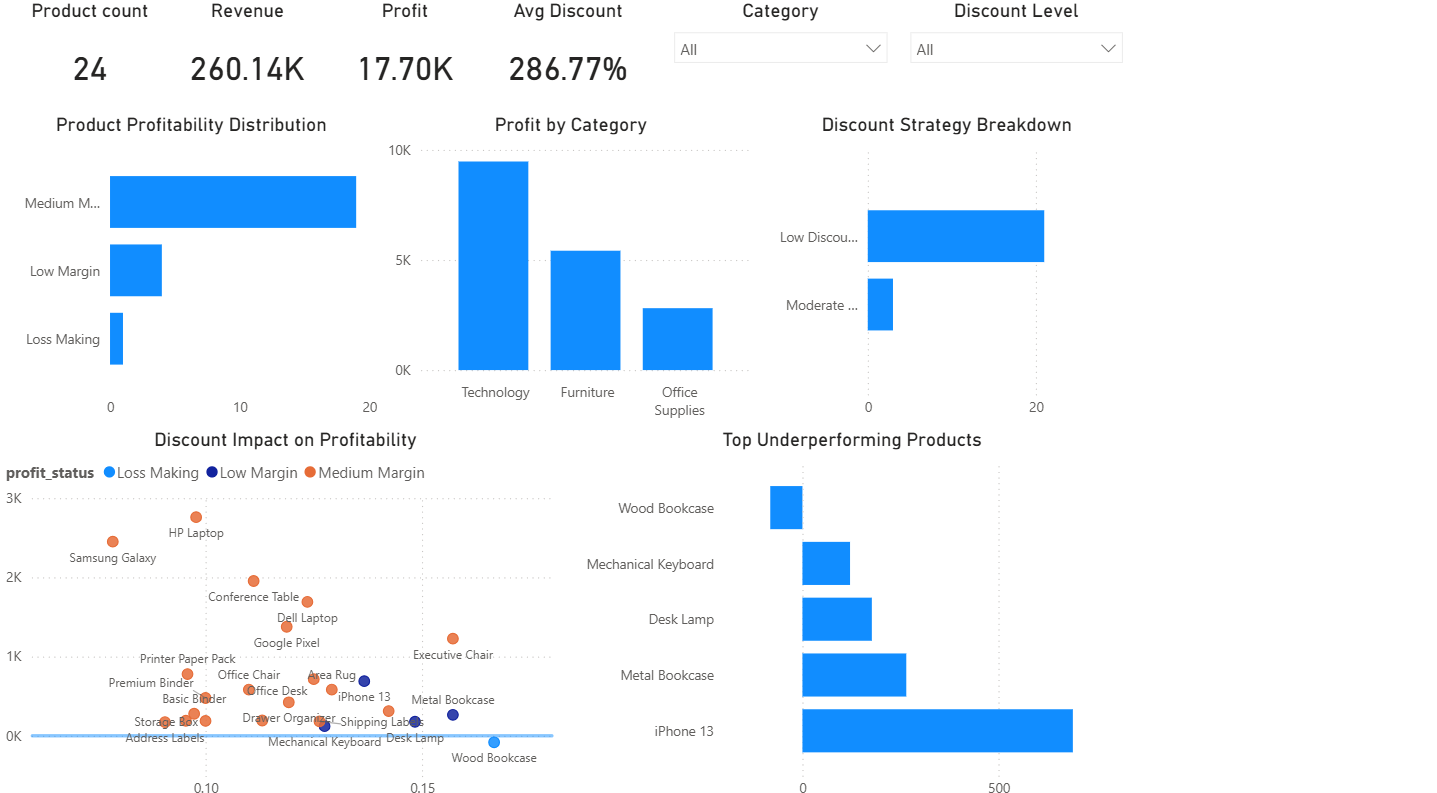

What the dashboard file says about the page in this screenshot:
{"tool":"powerbi","page":{"name":"Page 1","canvas":[1280,720],"ordinal":0},"visuals":[{"type":"card","title":"Product count","fields":{"Values":["CountNonNull(public profit_analysis.product_name)"]},"box":[9.6,0,140,101.5],"z":0},{"type":"card","title":"Revenue","fields":{"Values":["Sum(public profit_analysis.total_sales)"]},"box":[149.6,0,140,101.5],"z":1000},{"type":"card","title":"Profit","fields":{"Values":["Sum(public profit_analysis.total_profit)"]},"box":[289.5,0,140,101.5],"z":2000},{"type":"barChart","title":"Product Profitability Distribution","fields":{"Category":["public profit_analysis.profit_status"],"Y":["CountNonNull(public profit_analysis.product_name)"]},"box":[0,101.5,340.3,279.9],"z":3000},{"type":"columnChart","title":"Profit by Category","fields":{"Category":["public profit_analysis.category"],"Y":["Sum(public profit_analysis.total_profit)"]},"box":[340.3,101.5,334.8,279.9],"z":4000},{"type":"barChart","title":"Discount Strategy Breakdown","fields":{"Category":["public profit_analysis.discount_level"],"Y":["CountNonNull(public profit_analysis.product_name)"]},"box":[675.1,101.5,332.1,279.9],"z":5000},{"type":"scatterChart","title":"Discount Impact on Profitability","fields":{"X":["Sum(public profit_analysis.avg_discount)"],"Y":["Sum(public profit_analysis.total_profit)"],"Category":["public profit_analysis.product_name"],"Series":["public profit_analysis.profit_status"]},"box":[0,381.5,507.7,338.9],"z":6000},{"type":"barChart","title":"Top Underperforming Products","fields":{"Category":["public profit_analysis.product_name"],"Y":["Sum(public profit_analysis.total_profit)"]},"box":[507.7,381.5,499.5,338.9],"z":6001},{"type":"slicer","title":"Category","fields":{"Values":["public profit_analysis.category"]},"box":[588.9,0,210,101.1],"z":6002},{"type":"slicer","title":"Discount Level","fields":{"Values":["public profit_analysis.discount_level"]},"box":[798.9,0,208.9,101.1],"z":6003},{"type":"card","title":"Avg Discount","fields":{"Values":["Sum(public profit_analysis.avg_discount)"]},"box":[430,0,150,101.1],"z":6004}]}

Visuals, with their boxes in screenshot pixels (x1, y1, x2, y2), scaled from the page's 1280x720 canvas onto the 1437x793 screenshot:
"Product count" card: [left=11, top=0, right=168, bottom=112]
"Revenue" card: [left=168, top=0, right=325, bottom=112]
"Profit" card: [left=325, top=0, right=482, bottom=112]
"Product Profitability Distribution" barChart: [left=0, top=112, right=382, bottom=420]
"Profit by Category" columnChart: [left=382, top=112, right=758, bottom=420]
"Discount Strategy Breakdown" barChart: [left=758, top=112, right=1131, bottom=420]
"Discount Impact on Profitability" scatterChart: [left=0, top=420, right=570, bottom=792]
"Top Underperforming Products" barChart: [left=570, top=420, right=1131, bottom=792]
"Category" slicer: [left=661, top=0, right=897, bottom=111]
"Discount Level" slicer: [left=897, top=0, right=1131, bottom=111]
"Avg Discount" card: [left=483, top=0, right=651, bottom=111]
